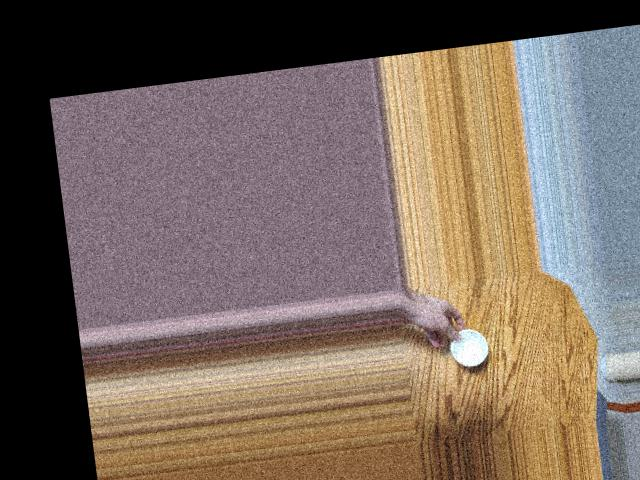cotage: (444, 323, 489, 370)
